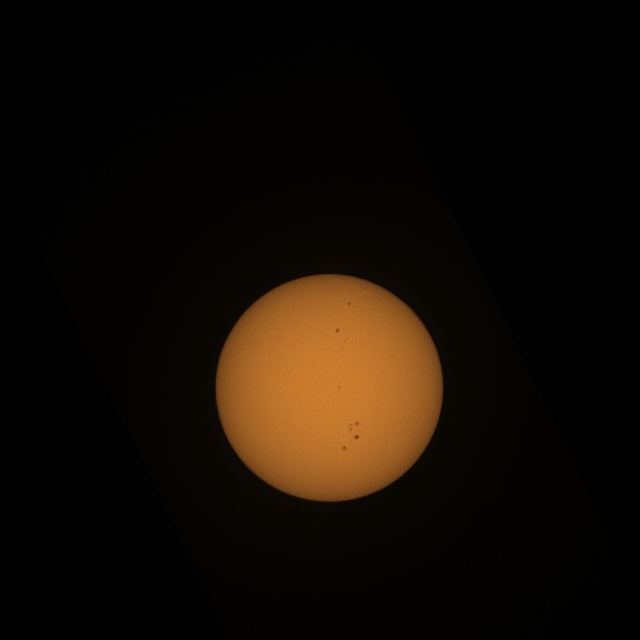sunspot: (339, 338, 347, 353), (349, 420, 360, 430), (297, 354, 307, 363), (352, 432, 360, 440), (361, 284, 369, 291), (342, 444, 349, 451), (335, 328, 340, 333), (337, 386, 341, 391), (348, 302, 352, 306)
